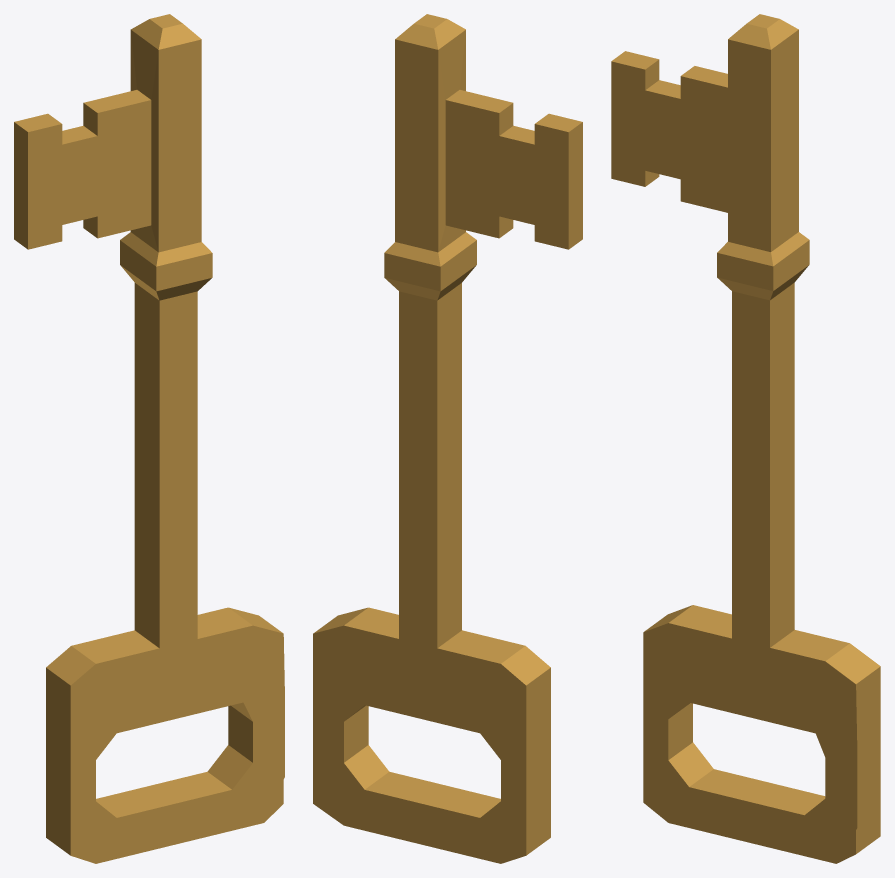
Rendered from key.obj.
3 views of the same model, side by side, from view 1: azimuth 30°, elevation 25°; view 2: azimuth 150°, elevation 25°; view 3: azimuth 330°, elevation 25° (orthographic).
Visible parts, largest first — view 1: Cube; view 2: Cube; view 3: Cube.
Part boxes in pixels (x1,y1,x2,y2): Cube: [14, 14, 284, 863]; Cube: [313, 14, 582, 863]; Cube: [611, 14, 880, 863].
Size of the model in its own units: 0.4114 by 1.27 by 0.103.
1 material, 1 textured.
